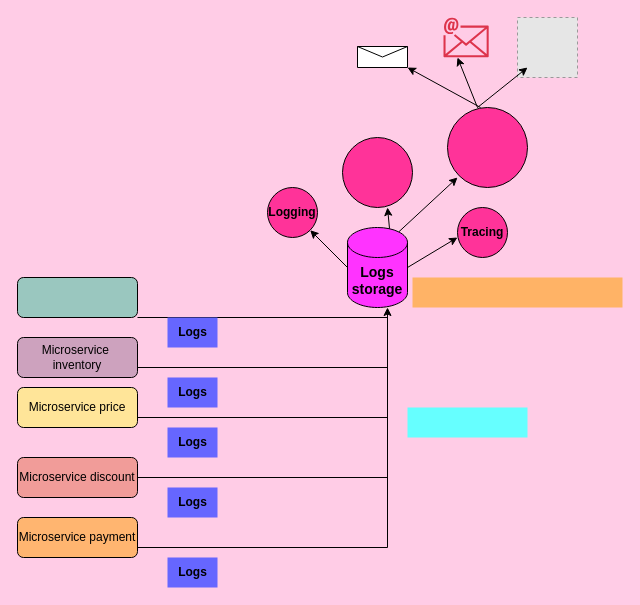
The diagram is 640 pixels wide and 605 high, and some of its shapes have lost their labels. Grey dashed boxes stand in for pictures. Here are the shapes that lost their labels. From the top down, the centre of each, then its label:
(x=487, y=147): Alerting
(x=377, y=172): Monitoring
(x=77, y=297): Microservice order
(x=517, y=292): azure application insights
(x=467, y=422): Centrilzed logs
